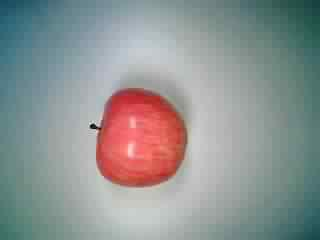apple: (88, 85, 192, 189)
